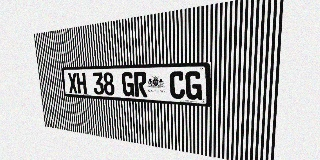3: (93, 72, 104, 95)
8: (103, 72, 115, 95)
C: (169, 71, 185, 99)
G: (185, 71, 202, 100), (121, 72, 134, 96)
H: (76, 73, 87, 94)
R: (134, 72, 147, 97)
X: (67, 73, 78, 93)
